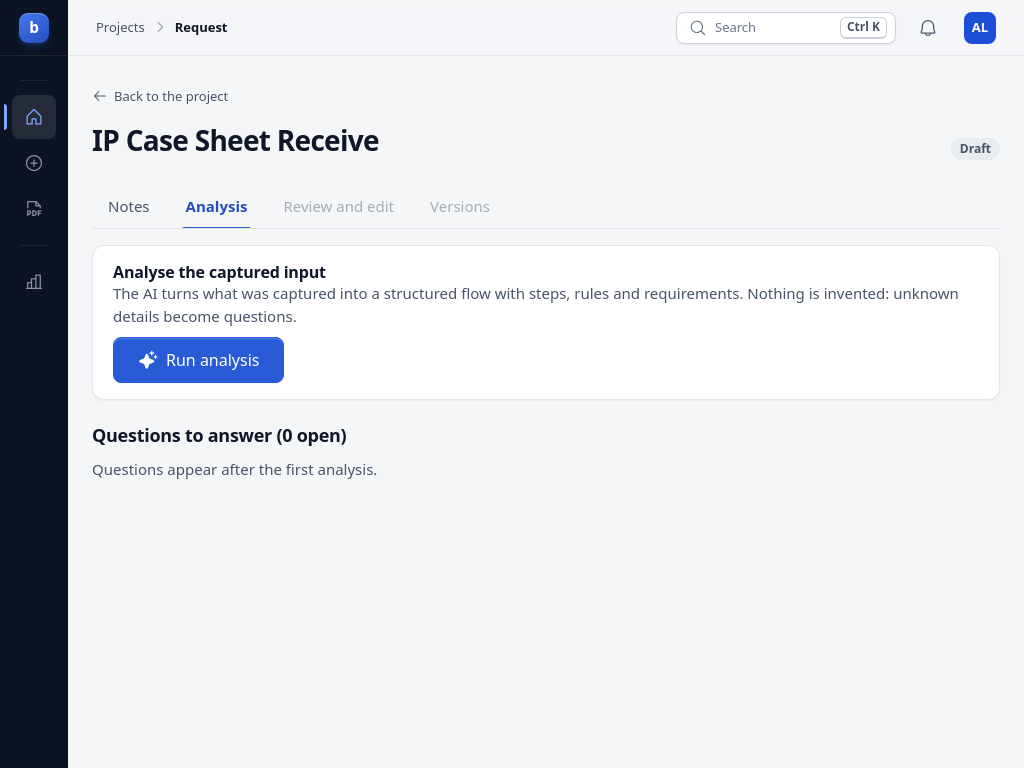
Scenario: analysis › starts the analysis once the notes are on the server, then announces the version it made
This screenshot has width=1024, height=768.
Click the button "Run analysis".
click(199, 360)  # box x1=113 y1=337 x2=284 y2=383
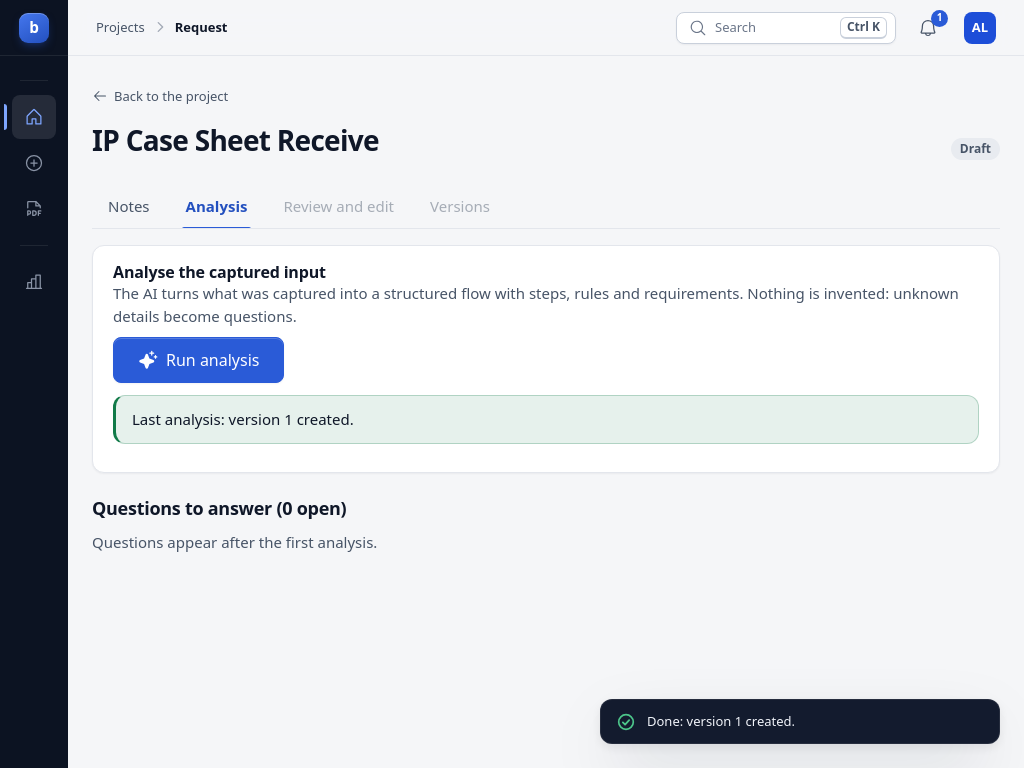
Check: the text "Done: version 1 created." is shown, box x1=647 y1=712 x2=795 y2=730
